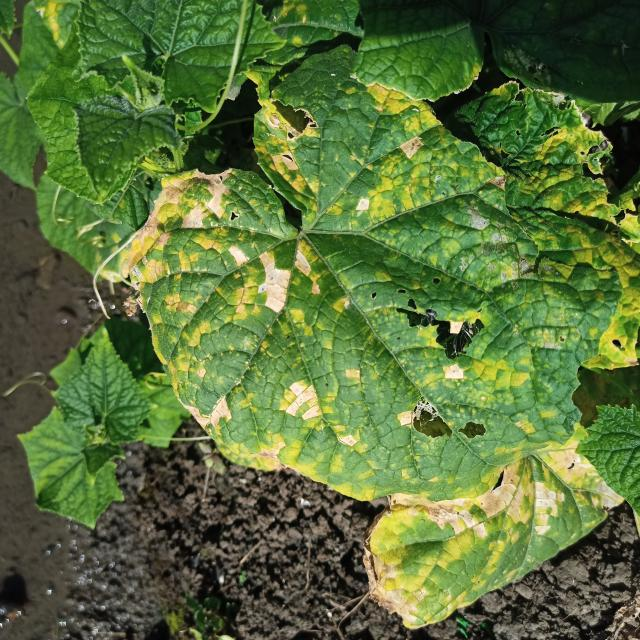disease_cucumber: (132, 74, 640, 494), (371, 441, 629, 616)
